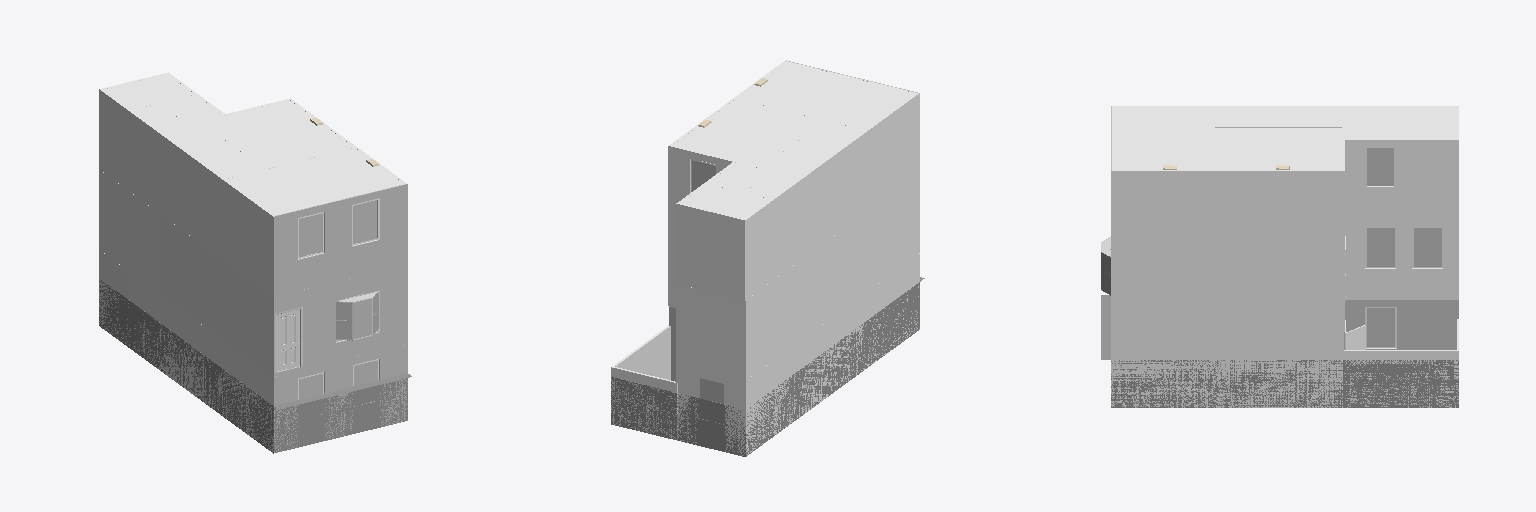
The model's file is opaqueFloorPlan.obj.
3 views of the same model, side by side, from view 1: azimuth 30°, elevation 25°; view 2: azimuth 150°, elevation 25°; view 3: azimuth 270°, elevation 25° (orthographic).
Parts seen in each view (by area): view 1: ground_1, wall_12_63, wall_16_87, wall_25_141, wall_7_36, room_4_647, room_3_645, wall_13_69, wall_28_159, wall_32_183, room_9_656, wall_51_297 (+12 smaller); view 2: ground_1, wall_12_63, wall_25_141, room_4_647, wall_1_3, wall_14_75, room_3_645, wall_13_69, wall_28_159, room_9_656, wall_51_297, wall_26_147 (+11 smaller); view 3: wall_43_249, wall_20_111, ground_1, wall_8_42, wall_30_171, wall_2_9, wall_44_255, room_4_647, wall_37_213, room_3_645, wall_21_117, wall_22_123 (+11 smaller).
Boxes of the visible parts, x1=… form: ground_1: x1=99, y1=280, x2=411, y2=453; wall_12_63: x1=157, y1=212, x2=273, y2=376; wall_16_87: x1=274, y1=184, x2=407, y2=296; wall_25_141: x1=128, y1=111, x2=212, y2=251; wall_7_36: x1=303, y1=264, x2=407, y2=369; room_4_647: x1=226, y1=148, x2=403, y2=214; room_3_645: x1=203, y1=100, x2=352, y2=167; wall_13_69: x1=99, y1=170, x2=156, y2=291; wall_28_159: x1=222, y1=180, x2=273, y2=296; wall_32_183: x1=274, y1=345, x2=407, y2=452; room_9_656: x1=131, y1=104, x2=263, y2=177; wall_51_297: x1=157, y1=292, x2=212, y2=408; ground_1: x1=611, y1=277, x2=924, y2=456; wall_12_63: x1=803, y1=173, x2=919, y2=337; wall_25_141: x1=774, y1=138, x2=858, y2=278; room_4_647: x1=738, y1=62, x2=915, y2=128; wall_1_3: x1=676, y1=284, x2=745, y2=380; wall_14_75: x1=676, y1=204, x2=744, y2=300; room_3_645: x1=672, y1=99, x2=822, y2=166; wall_13_69: x1=746, y1=259, x2=802, y2=379; wall_28_159: x1=869, y1=93, x2=919, y2=209; room_9_656: x1=745, y1=121, x2=864, y2=197; wall_51_297: x1=803, y1=298, x2=858, y2=414; wall_26_147: x1=745, y1=200, x2=773, y2=300; wall_43_249: x1=1213, y1=251, x2=1344, y2=331; wall_20_111: x1=1213, y1=171, x2=1344, y2=250; ground_1: x1=1101, y1=295, x2=1458, y2=407; wall_8_42: x1=1111, y1=251, x2=1212, y2=331; wall_30_171: x1=1111, y1=171, x2=1212, y2=250; wall_2_9: x1=1345, y1=220, x2=1458, y2=299; wall_44_255: x1=1230, y1=332, x2=1343, y2=407; room_4_647: x1=1113, y1=107, x2=1211, y2=169; wall_37_213: x1=1111, y1=332, x2=1212, y2=407; room_3_645: x1=1215, y1=128, x2=1341, y2=169; wall_21_117: x1=1402, y1=140, x2=1458, y2=219; wall_22_123: x1=1345, y1=140, x2=1401, y2=219.
Size of the model in its own units: 449 by 762 by 1038.